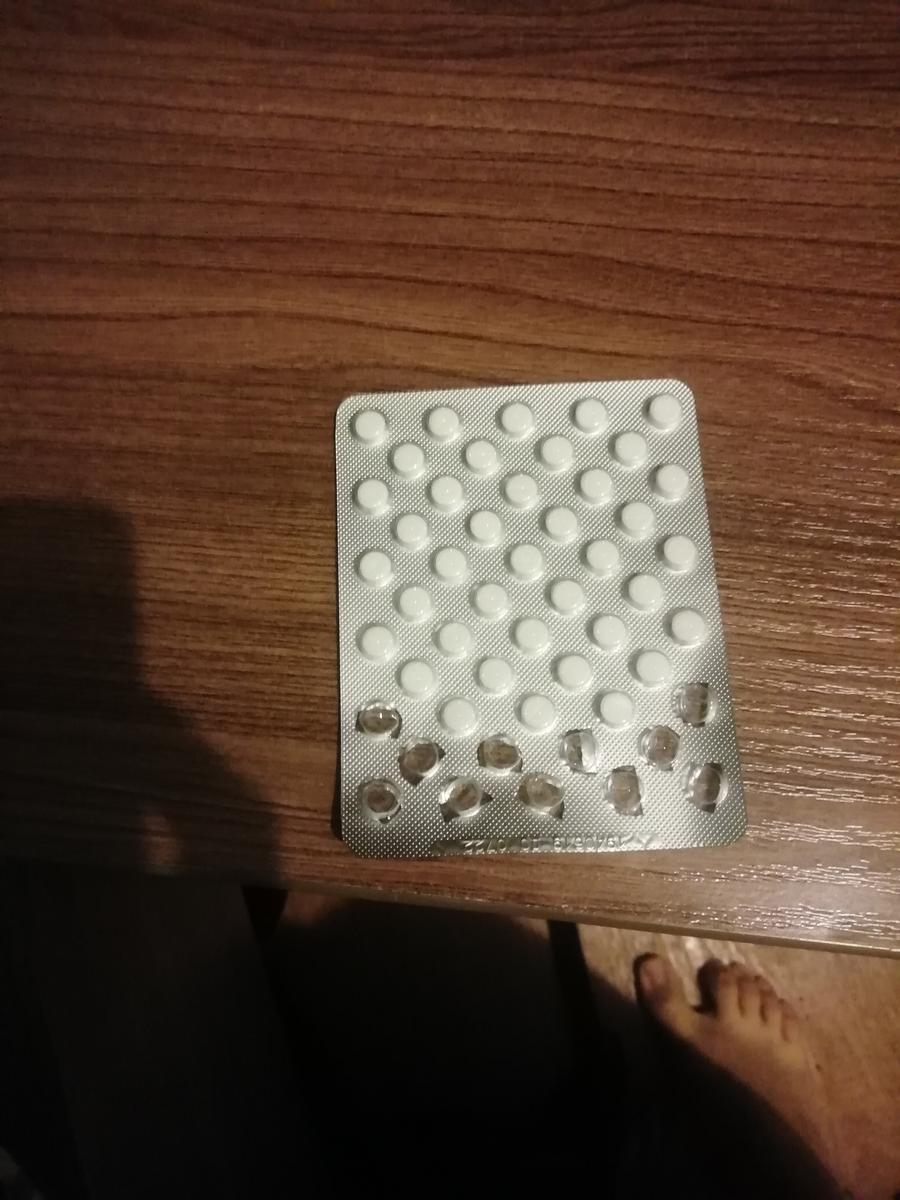tablet: (575, 465, 621, 506), (649, 459, 695, 500), (610, 498, 656, 539), (538, 500, 584, 541), (461, 504, 507, 545), (387, 503, 433, 544), (429, 542, 475, 583), (503, 539, 549, 580), (579, 537, 625, 578), (656, 529, 702, 570), (622, 568, 668, 609), (667, 608, 713, 649), (587, 613, 633, 654), (546, 576, 592, 617), (507, 615, 553, 656), (466, 579, 512, 620), (432, 620, 478, 661), (392, 582, 438, 623), (358, 623, 404, 664), (394, 658, 440, 699), (438, 699, 484, 740), (469, 658, 515, 699), (514, 693, 560, 734), (552, 651, 598, 692), (593, 688, 639, 729), (629, 649, 675, 690), (347, 411, 395, 445), (418, 404, 466, 438), (490, 401, 538, 435), (566, 397, 614, 431), (638, 392, 686, 426), (605, 432, 653, 466), (531, 436, 579, 470), (459, 439, 507, 473), (381, 441, 429, 475), (499, 472, 547, 506), (348, 474, 396, 508), (423, 474, 471, 508), (354, 544, 391, 583)
